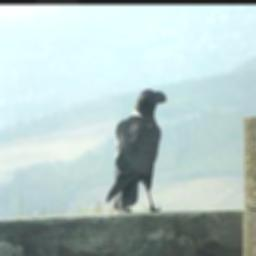Crow: (105, 87, 168, 213)
